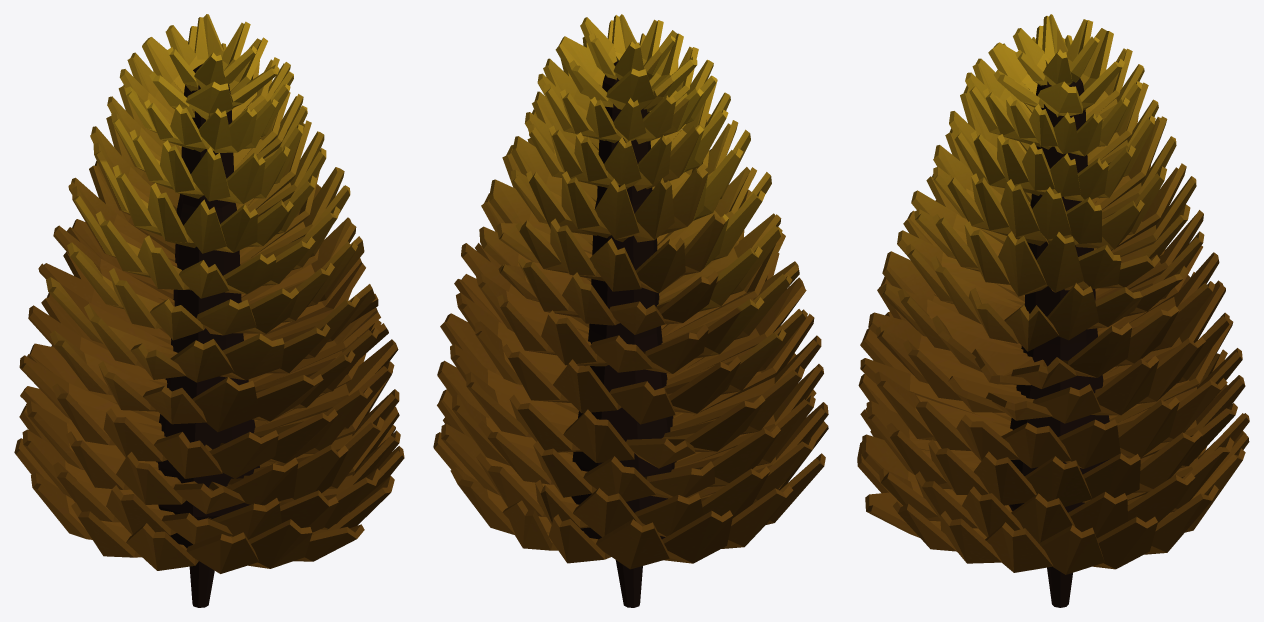
Rendered from PINECONE.fbx.
3 renders of one model, left to right at view 1: azimuth 30°, elevation 25°; view 2: azimuth 150°, elevation 25°; view 3: azimuth 270°, elevation 25°, orthographic.
Parts seen in each view (by area): view 1: Line015, Capsule001; view 2: Line015, Capsule001; view 3: Line015, Capsule001.
Boxes of the visible parts, <box> form: Line015: <box>14,14,404,573</box>; Capsule001: <box>156,64,259,607</box>; Line015: <box>433,14,828,569</box>; Capsule001: <box>571,61,676,607</box>; Line015: <box>857,14,1249,574</box>; Capsule001: <box>1008,78,1109,607</box>.
Size of the model in its own units: 15.3 by 25.07 by 15.35.
2 materials, 1 textured.
